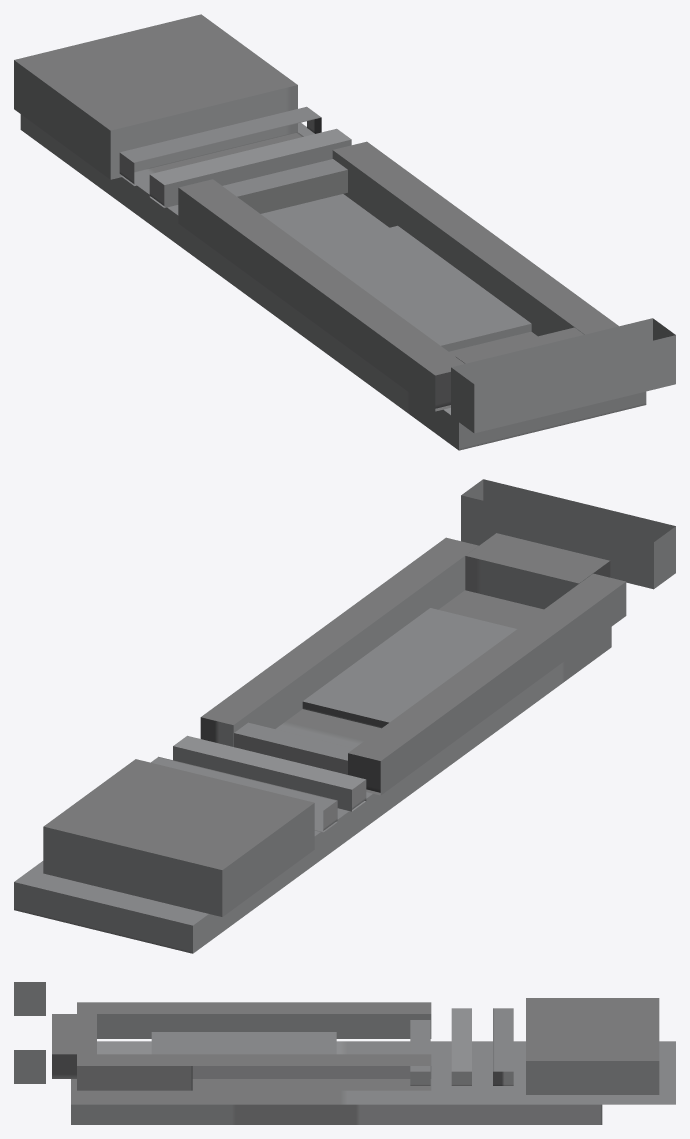
The picture shows the model from 3 angles, top to bottom: view 1: azimuth 30°, elevation 25°; view 2: azimuth 150°, elevation 25°; view 3: azimuth 270°, elevation 25°; orthographic projection. The views are drawn at different scales.
Size of the model in its own units: 0.3405 by 0.157 by 1.33.
